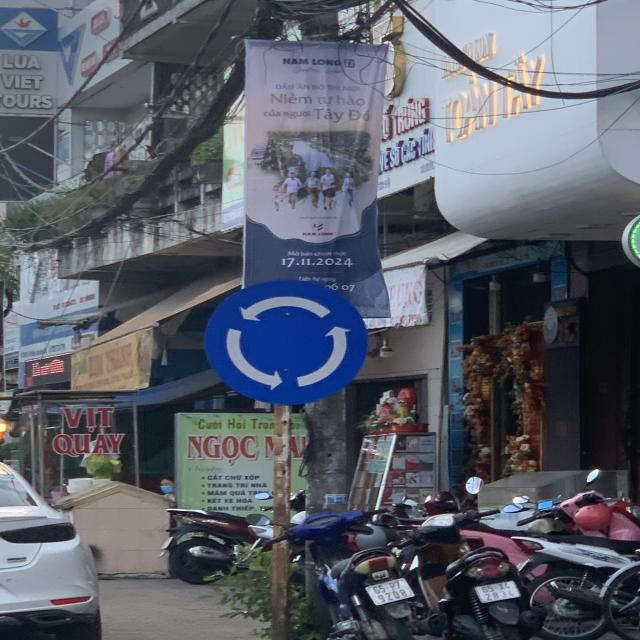Xe_Bus: (202, 278, 372, 406)
